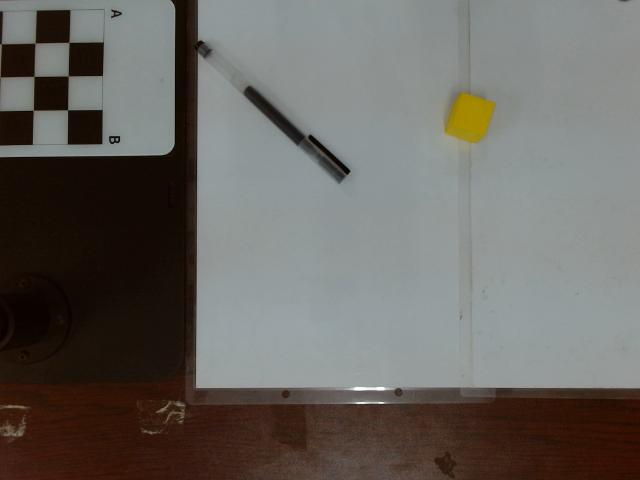PEN: (189, 37, 351, 184)
